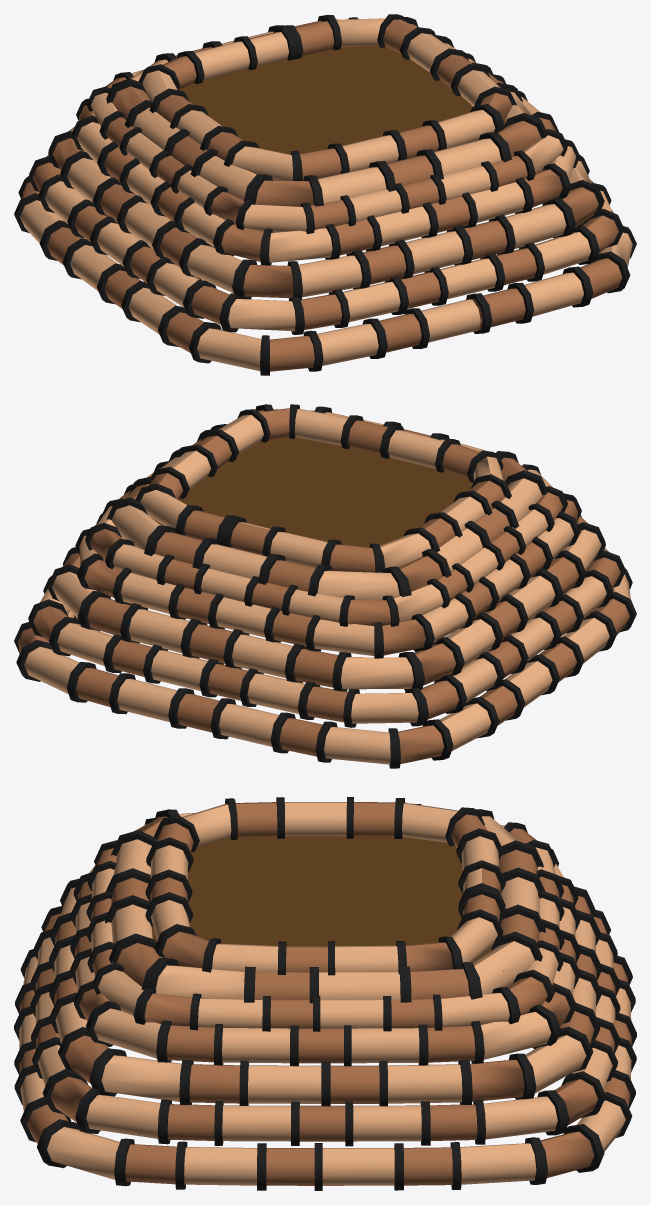
File: BasketTest.fbx
3 views of the same model, one above another, from view 1: azimuth 30°, elevation 25°; view 2: azimuth 150°, elevation 25°; view 3: azimuth 270°, elevation 25° (orthographic). The views are drawn at different scales.
Visible parts, largest first — view 1: Cylinder, Cylinder.006, Cylinder.001, Cylinder.002, Cube, Cylinder.003, Cylinder.005, Cylinder.004; view 2: Cylinder, Cylinder.006, Cylinder.001, Cylinder.002, Cube, Cylinder.003, Cylinder.005, Cylinder.004; view 3: Cylinder, Cylinder.006, Cylinder.001, Cube, Cylinder.002, Cylinder.005, Cylinder.003, Cylinder.004.
Part boxes in pixels (left/top/right/bottom): Cylinder: left=14, top=176, right=636, bottom=375; Cylinder.006: left=138, top=14, right=516, bottom=180; Cylinder.001: left=28, top=155, right=623, bottom=334; Cylinder.002: left=48, top=126, right=604, bottom=300; Cube: left=179, top=45, right=505, bottom=180; Cylinder.003: left=71, top=98, right=579, bottom=265; Cylinder.005: left=106, top=15, right=546, bottom=206; Cylinder.004: left=87, top=17, right=567, bottom=234; Cylinder: left=14, top=568, right=636, bottom=768; Cylinder.006: left=135, top=404, right=511, bottom=572; Cylinder.001: left=28, top=548, right=625, bottom=727; Cylinder.002: left=47, top=514, right=605, bottom=691; Cube: left=130, top=437, right=505, bottom=547; Cylinder.003: left=75, top=493, right=581, bottom=658; Cylinder.005: left=106, top=404, right=546, bottom=599; Cylinder.004: left=85, top=424, right=567, bottom=626; Cylinder: left=14, top=949, right=636, bottom=1190; Cylinder.006: left=145, top=797, right=505, bottom=975; Cylinder.001: left=30, top=906, right=620, bottom=1146; Cube: left=151, top=836, right=504, bottom=971; Cylinder.002: left=49, top=878, right=601, bottom=1106; Cylinder.005: left=105, top=803, right=545, bottom=1003; Cylinder.003: left=70, top=849, right=580, bottom=1066; Cylinder.004: left=86, top=818, right=564, bottom=1031.
Bounding box in the file's own units: 218 × 76.62 × 218.
